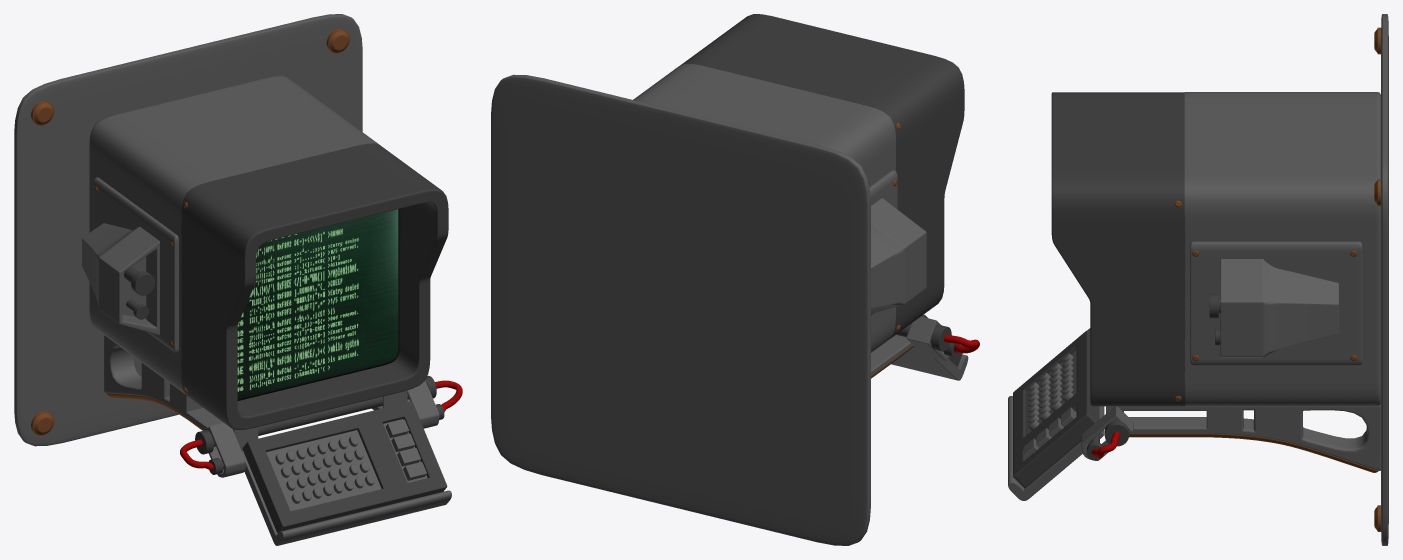
Rendered from maya2sketchfab.fbx.
3 renders of one model, left to right at view 1: azimuth 30°, elevation 25°; view 2: azimuth 150°, elevation 25°; view 3: azimuth 270°, elevation 25°, orthographic. The views are drawn at different scales.
Visible parts, largest first — view 1: polySurface44; view 2: polySurface44; view 3: polySurface44.
Boxes of the visible parts, left/top/right/bottom form: polySurface44: left=14, top=14, right=462, bottom=545; polySurface44: left=491, top=14, right=979, bottom=545; polySurface44: left=1008, top=14, right=1388, bottom=545.
Bounding box in the file's own units: 16.76 × 16.76 × 15.2.
Materials: 7 (1 with a texture image).
